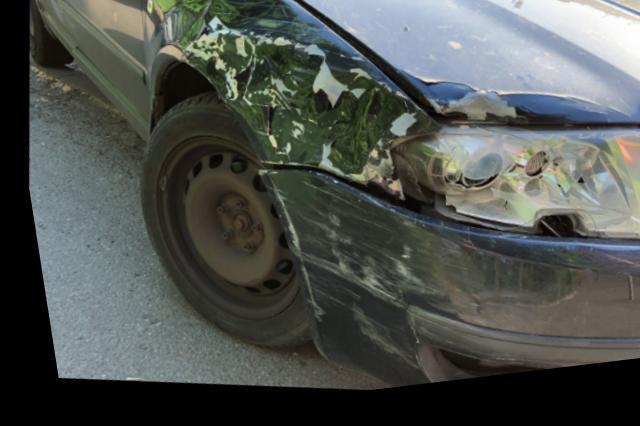dent: (183, 0, 416, 186)
lamp broken: (400, 135, 640, 256)
scratch: (254, 180, 466, 381)
